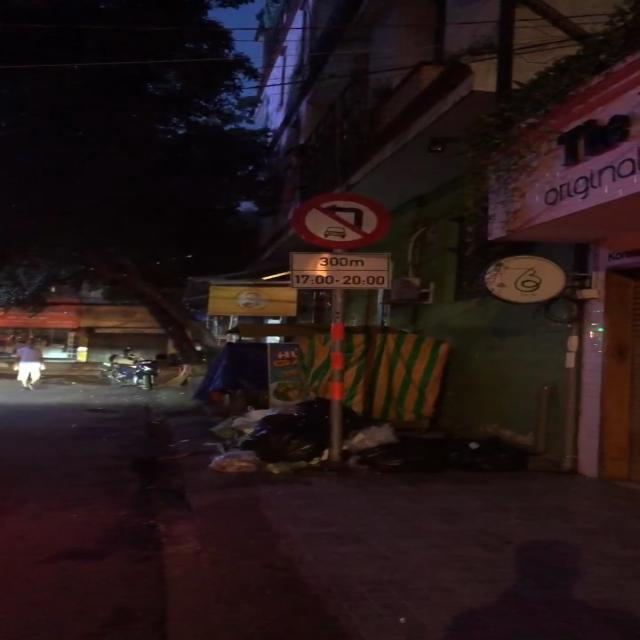Bien bao cam xe o to re trai: (288, 190, 390, 253)
